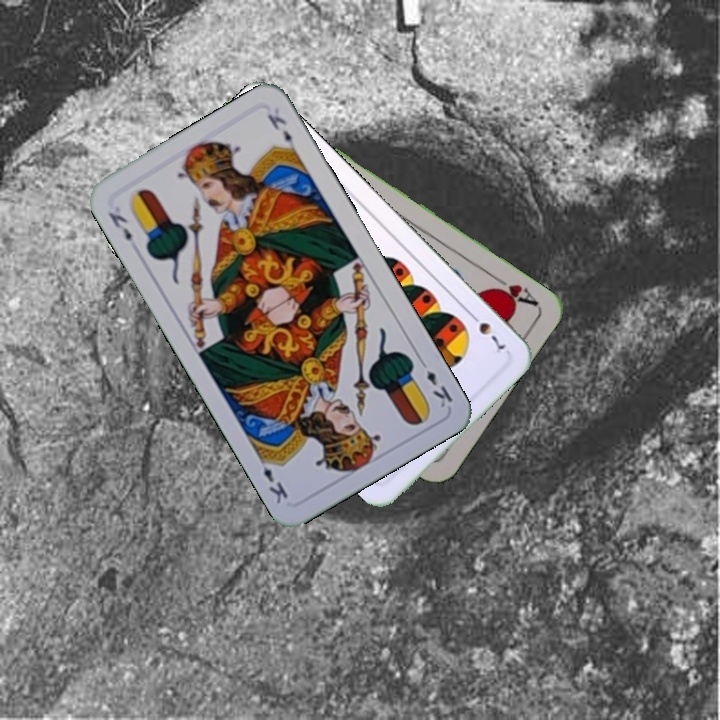EK: (415, 355, 456, 411), (104, 207, 135, 244)
HA: (487, 270, 541, 309)
S7: (464, 308, 507, 356)
